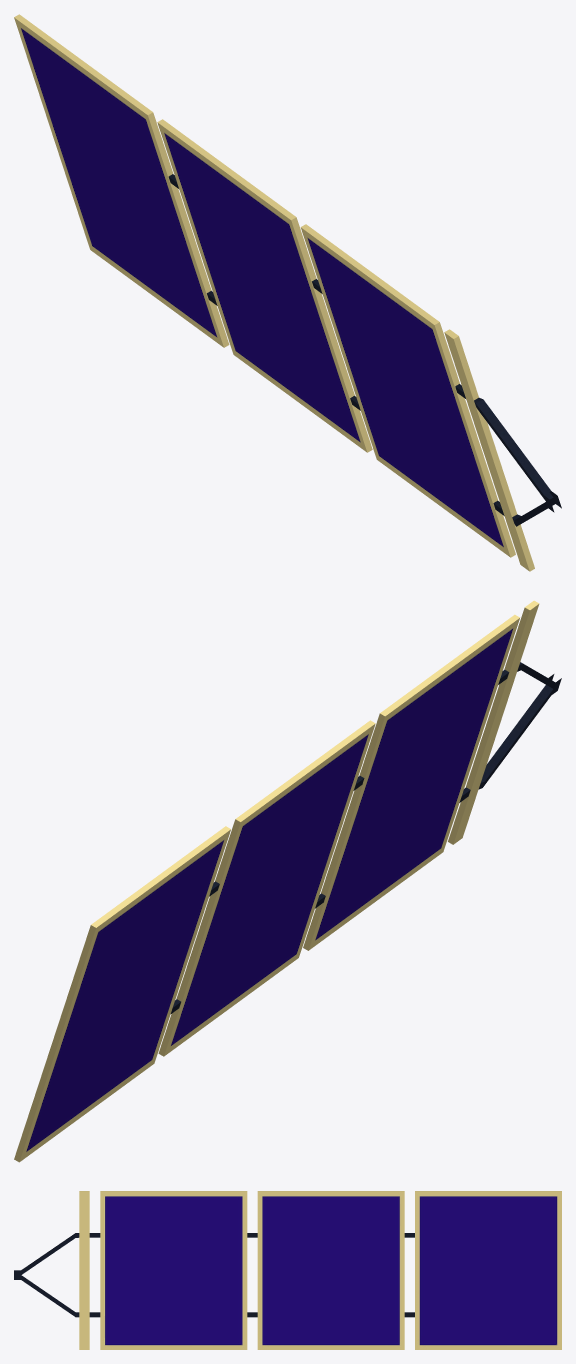
Rendered from SatelitePanelDerecho.glb.
3 views of the same model, one above another, from view 1: azimuth 30°, elevation 25°; view 2: azimuth 150°, elevation 25°; view 3: azimuth 270°, elevation 25° (orthographic). The views are drawn at different scales.
Visible parts, largest first — view 1: PanelDerecho; view 2: PanelDerecho; view 3: PanelDerecho.
Boxes of the visible parts, <box> form: PanelDerecho: <box>14,14,561,571</box>; PanelDerecho: <box>14,600,561,1162</box>; PanelDerecho: <box>14,1191,561,1349</box>.
Size of the model in its own units: 0.1584 by 0.4695 by 1.68.
1 material, 1 textured.
